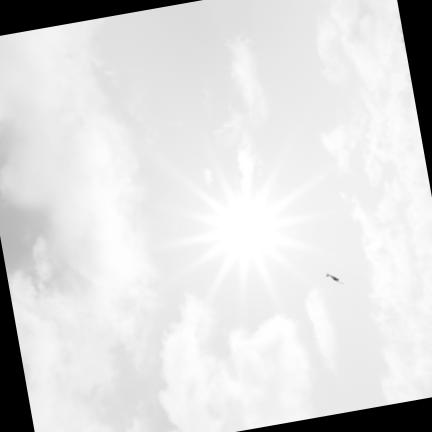Shahed: (325, 271, 345, 284)
